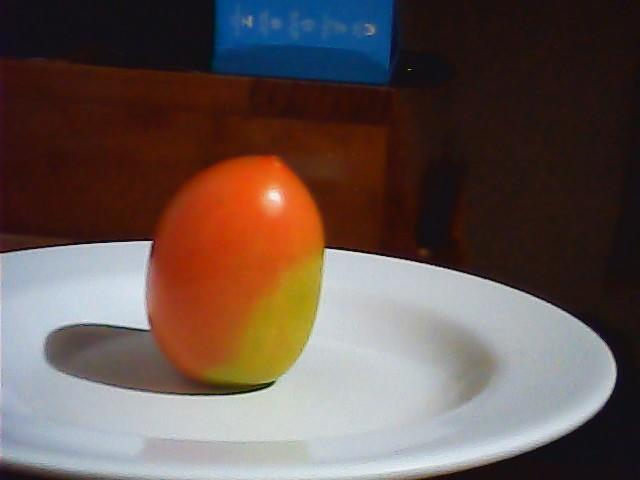verde: (143, 153, 324, 387)
